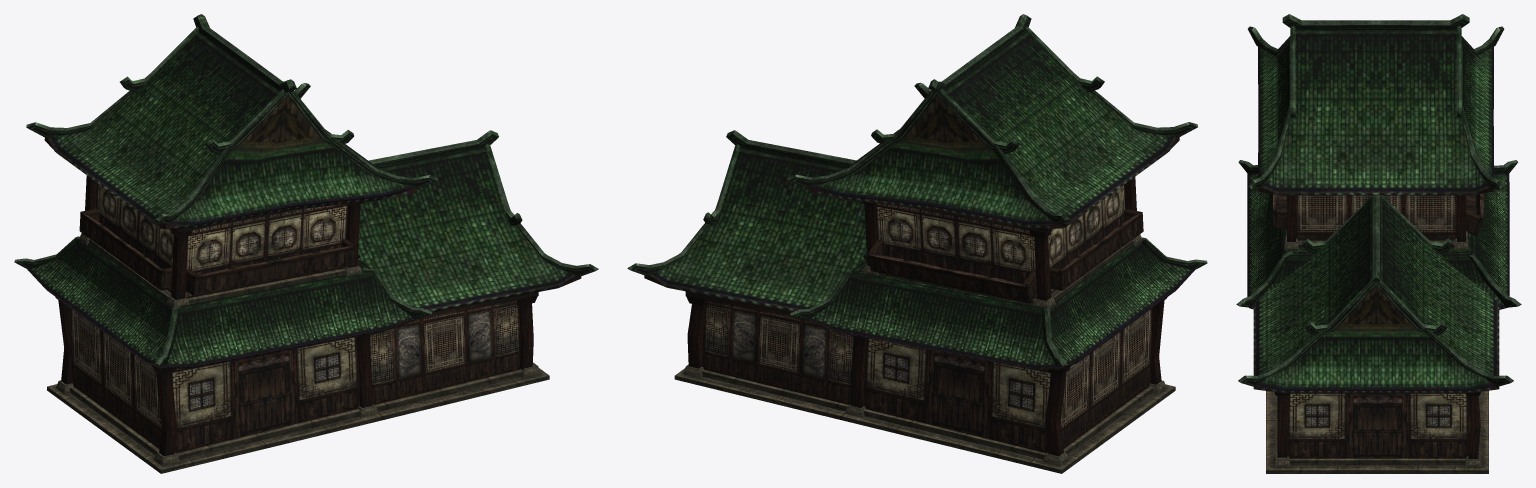
The model's file is c1-007-itemshop_02.fbx.
3 renders of one model, left to right at view 1: azimuth 30°, elevation 25°; view 2: azimuth 150°, elevation 25°; view 3: azimuth 270°, elevation 25°, orthographic. The views are drawn at different scales.
Parts seen in each view (by area): view 1: c1-007-itemshop-01; view 2: c1-007-itemshop-01; view 3: c1-007-itemshop-01.
Boxes of the visible parts, x1,y1,x2,y2 form: c1-007-itemshop-01: [14, 14, 598, 473]; c1-007-itemshop-01: [627, 14, 1207, 473]; c1-007-itemshop-01: [1236, 14, 1521, 473].
Bounding box in the file's own units: 18.33 × 13.88 × 10.48.
